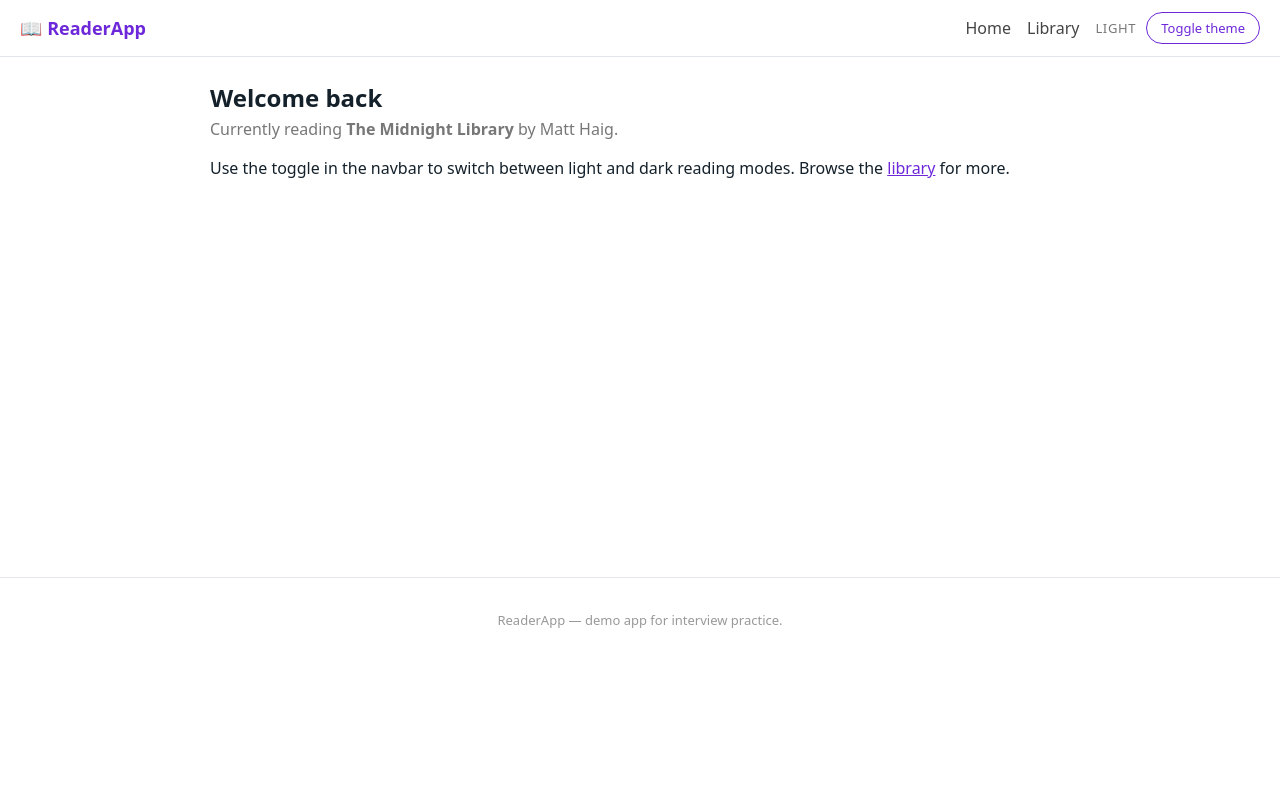
it: m10 · ReaderApp — app renders › navigates to the Library route via the navbar
Click the link with test id "nav-library". click: (1053, 28)
box: [1027, 17, 1079, 39]
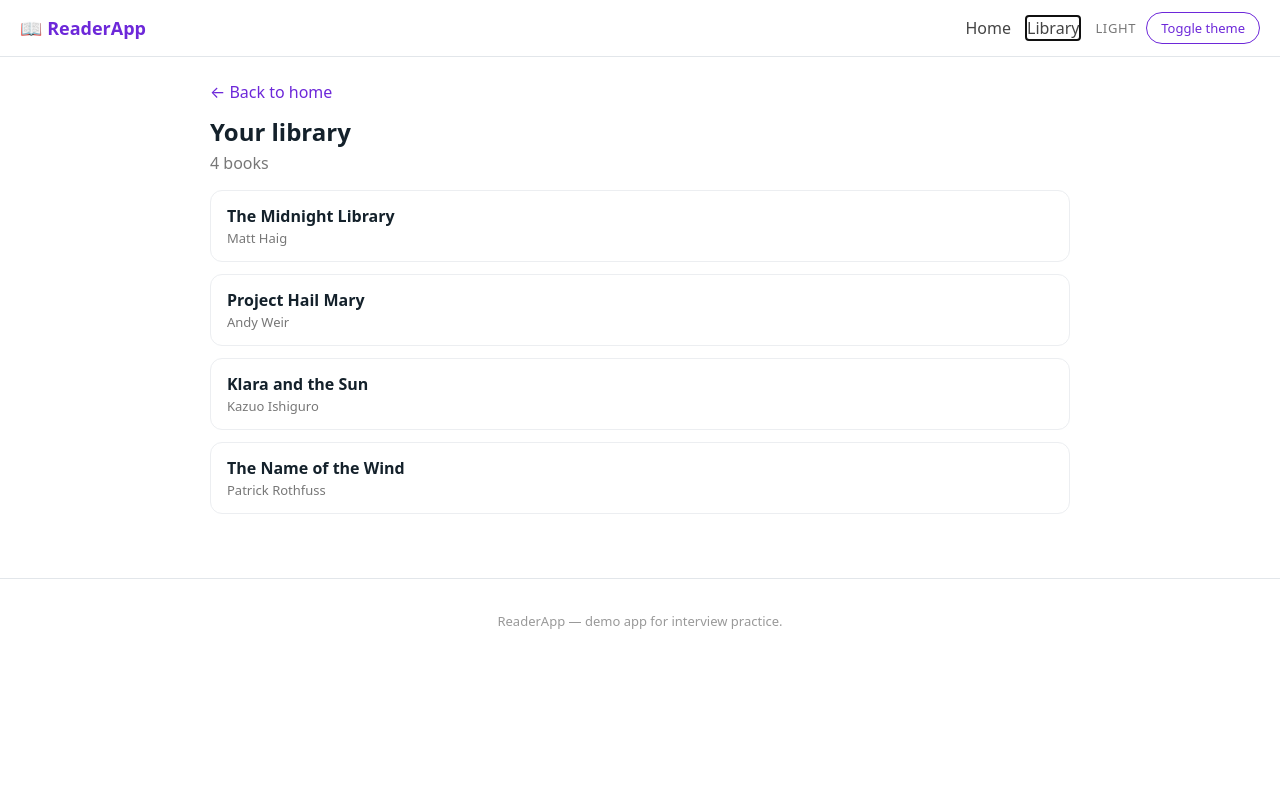
Expected: the element with test id "library-page" is shown, [190, 57, 1090, 538]
